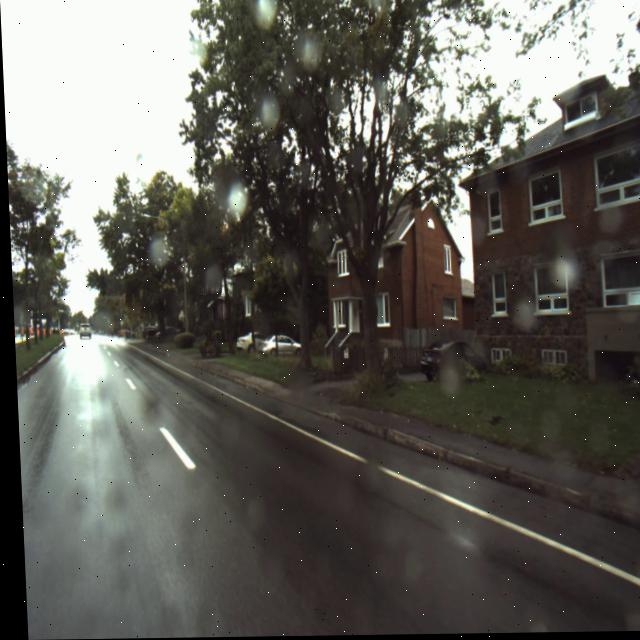car: (414, 342, 482, 385), (253, 334, 299, 359), (231, 331, 257, 356), (75, 322, 89, 340)
